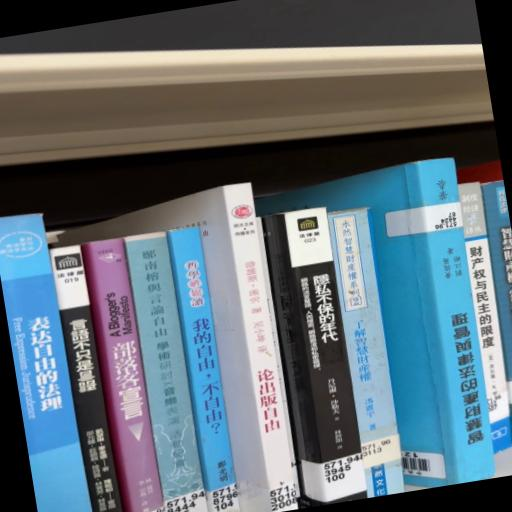reverse: (255, 158, 494, 487)
